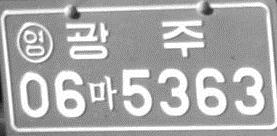0: (18, 70, 49, 119)
3: (156, 67, 191, 116), (231, 66, 265, 116)
5: (120, 68, 154, 117)
6: (53, 69, 87, 119), (194, 67, 227, 116)
광주_D: (65, 19, 206, 61)
마: (87, 74, 117, 112)
영: (15, 21, 53, 64)
